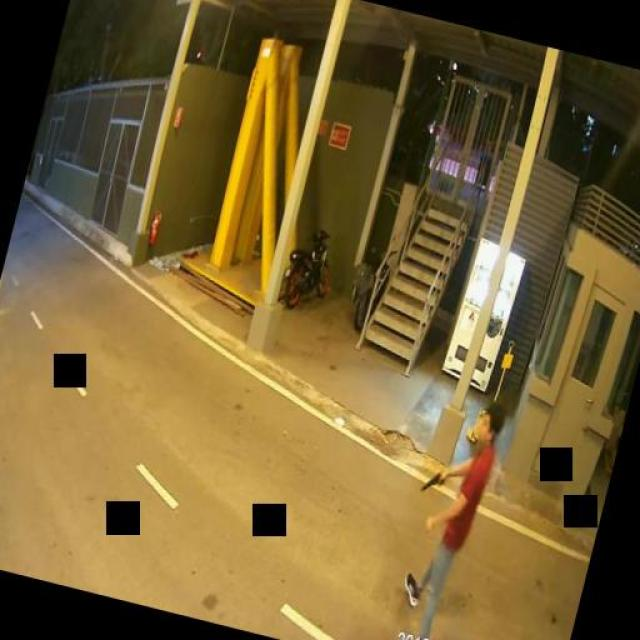gun: (420, 463, 448, 495)
